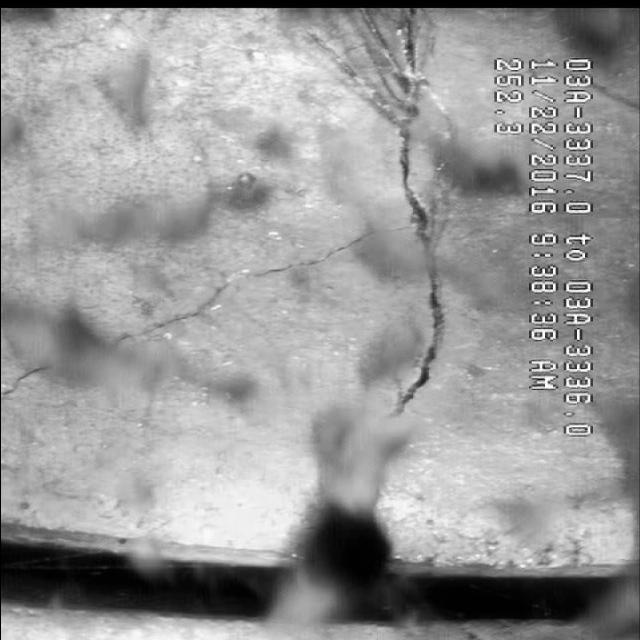Crack: (359, 37, 472, 399), (44, 242, 326, 380)
